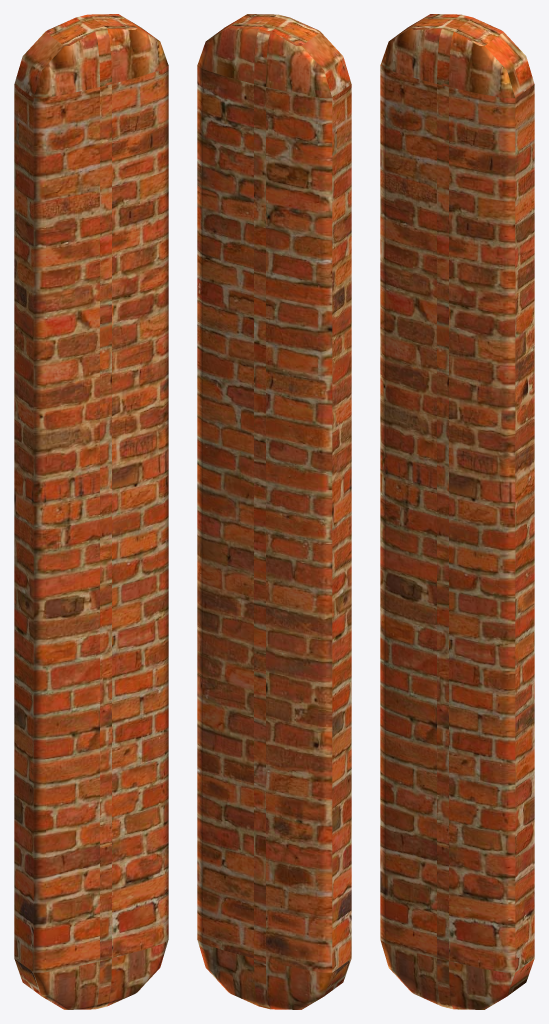
3 views of the same model, side by side, from view 1: azimuth 30°, elevation 25°; view 2: azimuth 150°, elevation 25°; view 3: azimuth 330°, elevation 25° (orthographic).
Visible parts, largest first — view 1: Combined_Mesh__root__scene___50942_scene__0; view 2: Combined_Mesh__root__scene___50942_scene__0; view 3: Combined_Mesh__root__scene___50942_scene__0.
Boxes of the visible parts, bbox=[...] form: Combined_Mesh__root__scene___50942_scene__0: bbox=[14, 14, 168, 1009]; Combined_Mesh__root__scene___50942_scene__0: bbox=[197, 14, 351, 1009]; Combined_Mesh__root__scene___50942_scene__0: bbox=[380, 14, 534, 1009].
Size of the model in its own units: 4.86 by 33.65 by 1.82.
